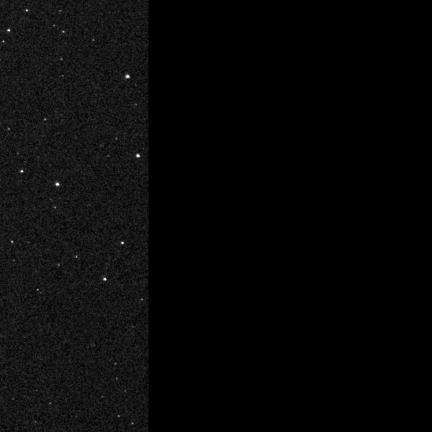blob: (125, 73, 130, 78), (121, 242, 125, 245), (20, 170, 24, 173), (136, 154, 140, 157), (103, 278, 107, 281), (8, 29, 11, 33), (55, 183, 59, 186), (11, 241, 14, 244), (62, 31, 65, 34), (26, 10, 29, 12), (44, 119, 47, 121)
